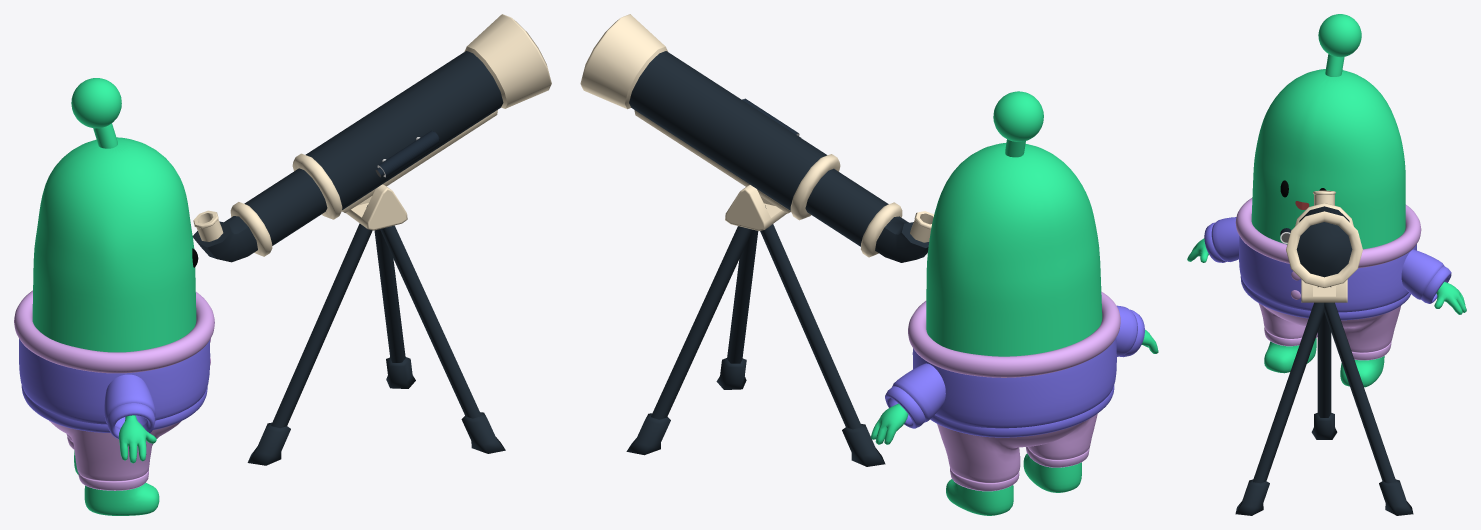
The model's file is janus-alien-observer-v2.glb.
3 views of the same model, side by side, from view 1: azimuth 30°, elevation 25°; view 2: azimuth 150°, elevation 25°; view 3: azimuth 270°, elevation 25° (orthographic). The views are drawn at different scales.
Visible parts, largest first — view 1: ALIEN_Sphere, TELESCOPE_mesh_prop_micro_telescope_secrethideout, TELESCOPE_mesh_prop_micro_telescope_secrethideout.002, ALIEN_Sphere.002, ALIEN_Sphere.004, ALIEN_Sphere.003, ALIEN_Sphere.009, ALIEN_Cylinder, ALIEN_Sphere.007, ALIEN_Object_8.006, TELESCOPE_Cylinder, ALIEN_Cylinder.001 (+1 smaller); view 2: ALIEN_Sphere, TELESCOPE_mesh_prop_micro_telescope_secrethideout, TELESCOPE_mesh_prop_micro_telescope_secrethideout.002, ALIEN_Sphere.002, ALIEN_Sphere.004, ALIEN_Sphere.003, ALIEN_Cylinder, ALIEN_Sphere.009, ALIEN_Sphere.007, ALIEN_Cylinder.001, ALIEN_Object_8.006, ALIEN_Sphere.008; view 3: ALIEN_Sphere, TELESCOPE_mesh_prop_micro_telescope_secrethideout.002, ALIEN_Sphere.002, TELESCOPE_mesh_prop_micro_telescope_secrethideout, ALIEN_Sphere.004, ALIEN_Sphere.003, TELESCOPE_mesh_prop_micro_telescope_secrethideout.001, ALIEN_Cylinder, ALIEN_Sphere.009, ALIEN_Sphere.007, ALIEN_Object_8.006, ALIEN_Cylinder.001 (+2 smaller).
Part boxes in pixels (x1=…): ALIEN_Sphere: x1=32, y1=137, x2=196, y2=515; TELESCOPE_mesh_prop_micro_telescope_secrethideout: x1=192, y1=14, x2=551, y2=262; TELESCOPE_mesh_prop_micro_telescope_secrethideout.002: x1=247, y1=184, x2=505, y2=465; ALIEN_Sphere.002: x1=19, y1=338, x2=210, y2=424; ALIEN_Sphere.004: x1=14, y1=290, x2=214, y2=373; ALIEN_Sphere.003: x1=49, y1=420, x2=181, y2=481; ALIEN_Sphere.009: x1=71, y1=78, x2=121, y2=128; ALIEN_Cylinder: x1=104, y1=374, x2=155, y2=428; ALIEN_Sphere.007: x1=21, y1=385, x2=207, y2=432; ALIEN_Object_8.006: x1=118, y1=415, x2=156, y2=463; TELESCOPE_Cylinder: x1=375, y1=130, x2=439, y2=177; ALIEN_Cylinder.001: x1=107, y1=403, x2=155, y2=439; ALIEN_Sphere: x1=926, y1=143, x2=1102, y2=515; TELESCOPE_mesh_prop_micro_telescope_secrethideout: x1=580, y1=14, x2=934, y2=262; TELESCOPE_mesh_prop_micro_telescope_secrethideout.002: x1=626, y1=185, x2=885, y2=466; ALIEN_Sphere.002: x1=912, y1=338, x2=1116, y2=428; ALIEN_Sphere.004: x1=908, y1=291, x2=1120, y2=377; ALIEN_Sphere.003: x1=937, y1=414, x2=1097, y2=483; ALIEN_Cylinder: x1=892, y1=305, x2=1137, y2=422; ALIEN_Sphere.009: x1=993, y1=91, x2=1043, y2=141; ALIEN_Sphere.007: x1=930, y1=385, x2=1114, y2=437; ALIEN_Cylinder.001: x1=885, y1=309, x2=1144, y2=428; ALIEN_Object_8.006: x1=871, y1=329, x2=1158, y2=444; ALIEN_Sphere.008: x1=950, y1=447, x2=1089, y2=491; ALIEN_Sphere: x1=1251, y1=69, x2=1405, y2=387; TELESCOPE_mesh_prop_micro_telescope_secrethideout.002: x1=1235, y1=279, x2=1413, y2=515; ALIEN_Sphere.002: x1=1239, y1=236, x2=1416, y2=312; TELESCOPE_mesh_prop_micro_telescope_secrethideout: x1=1286, y1=190, x2=1362, y2=287; ALIEN_Sphere.004: x1=1235, y1=198, x2=1421, y2=268; ALIEN_Sphere.003: x1=1258, y1=303, x2=1401, y2=352; TELESCOPE_mesh_prop_micro_telescope_secrethideout.001: x1=1296, y1=222, x2=1352, y2=277; ALIEN_Cylinder: x1=1211, y1=217, x2=1444, y2=299; ALIEN_Sphere.009: x1=1318, y1=14, x2=1361, y2=57; ALIEN_Sphere.007: x1=1240, y1=276, x2=1410, y2=320; ALIEN_Object_8.006: x1=1187, y1=238, x2=1466, y2=314; ALIEN_Cylinder.001: x1=1204, y1=222, x2=1451, y2=303.
Size of the model in its own units: 2.53 by 1.94 by 1.4.
11 materials, 1 textured.
